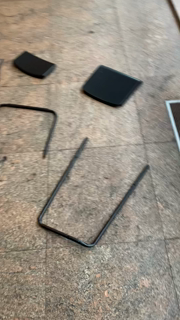Back: (11, 51, 60, 83)
Seat: (80, 64, 145, 111)
U pipe: (36, 136, 153, 251)
